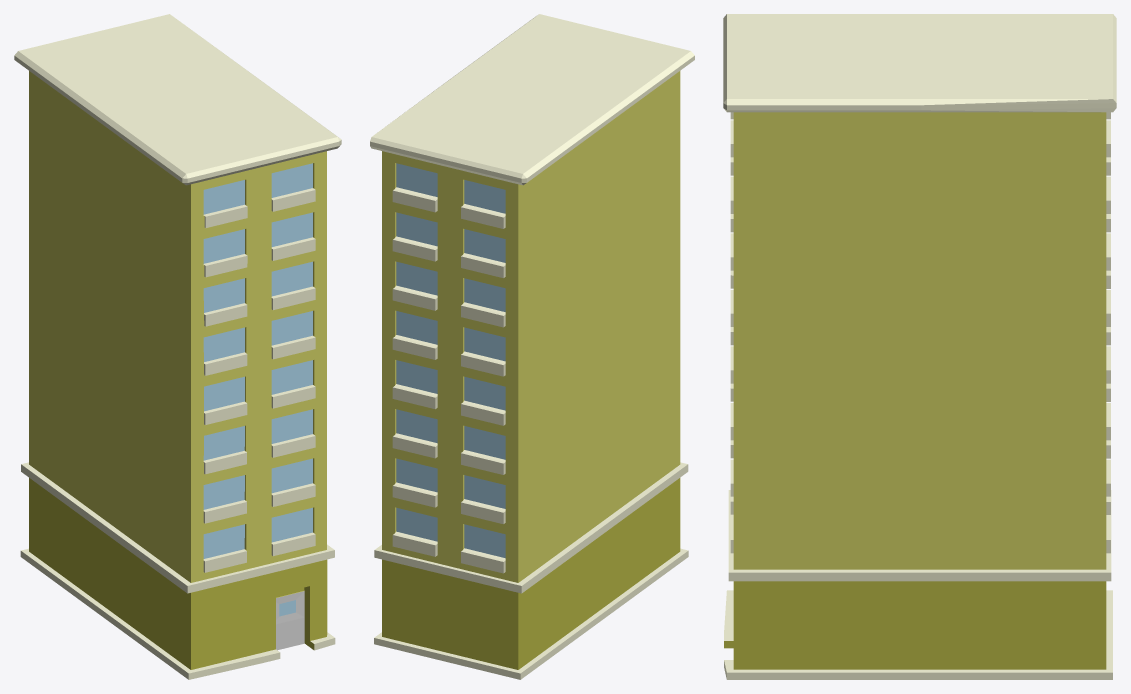
Rendered from flatB.fbx.
3 renders of one model, left to right at view 1: azimuth 30°, elevation 25°; view 2: azimuth 150°, elevation 25°; view 3: azimuth 270°, elevation 25°, orthographic. The views are drawn at different scales.
Visible parts, largest first — view 1: FlatB; view 2: FlatB; view 3: FlatB.
Part boxes in pixels (x1,y1,x2,y2): FlatB: (14,14,341,679); FlatB: (370,14,694,679); FlatB: (723,14,1116,679).
Size of the model in its own units: 1102 by 3349 by 2049.
